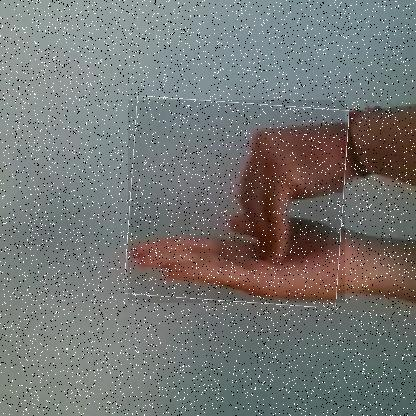Z: (127, 100, 345, 304)
